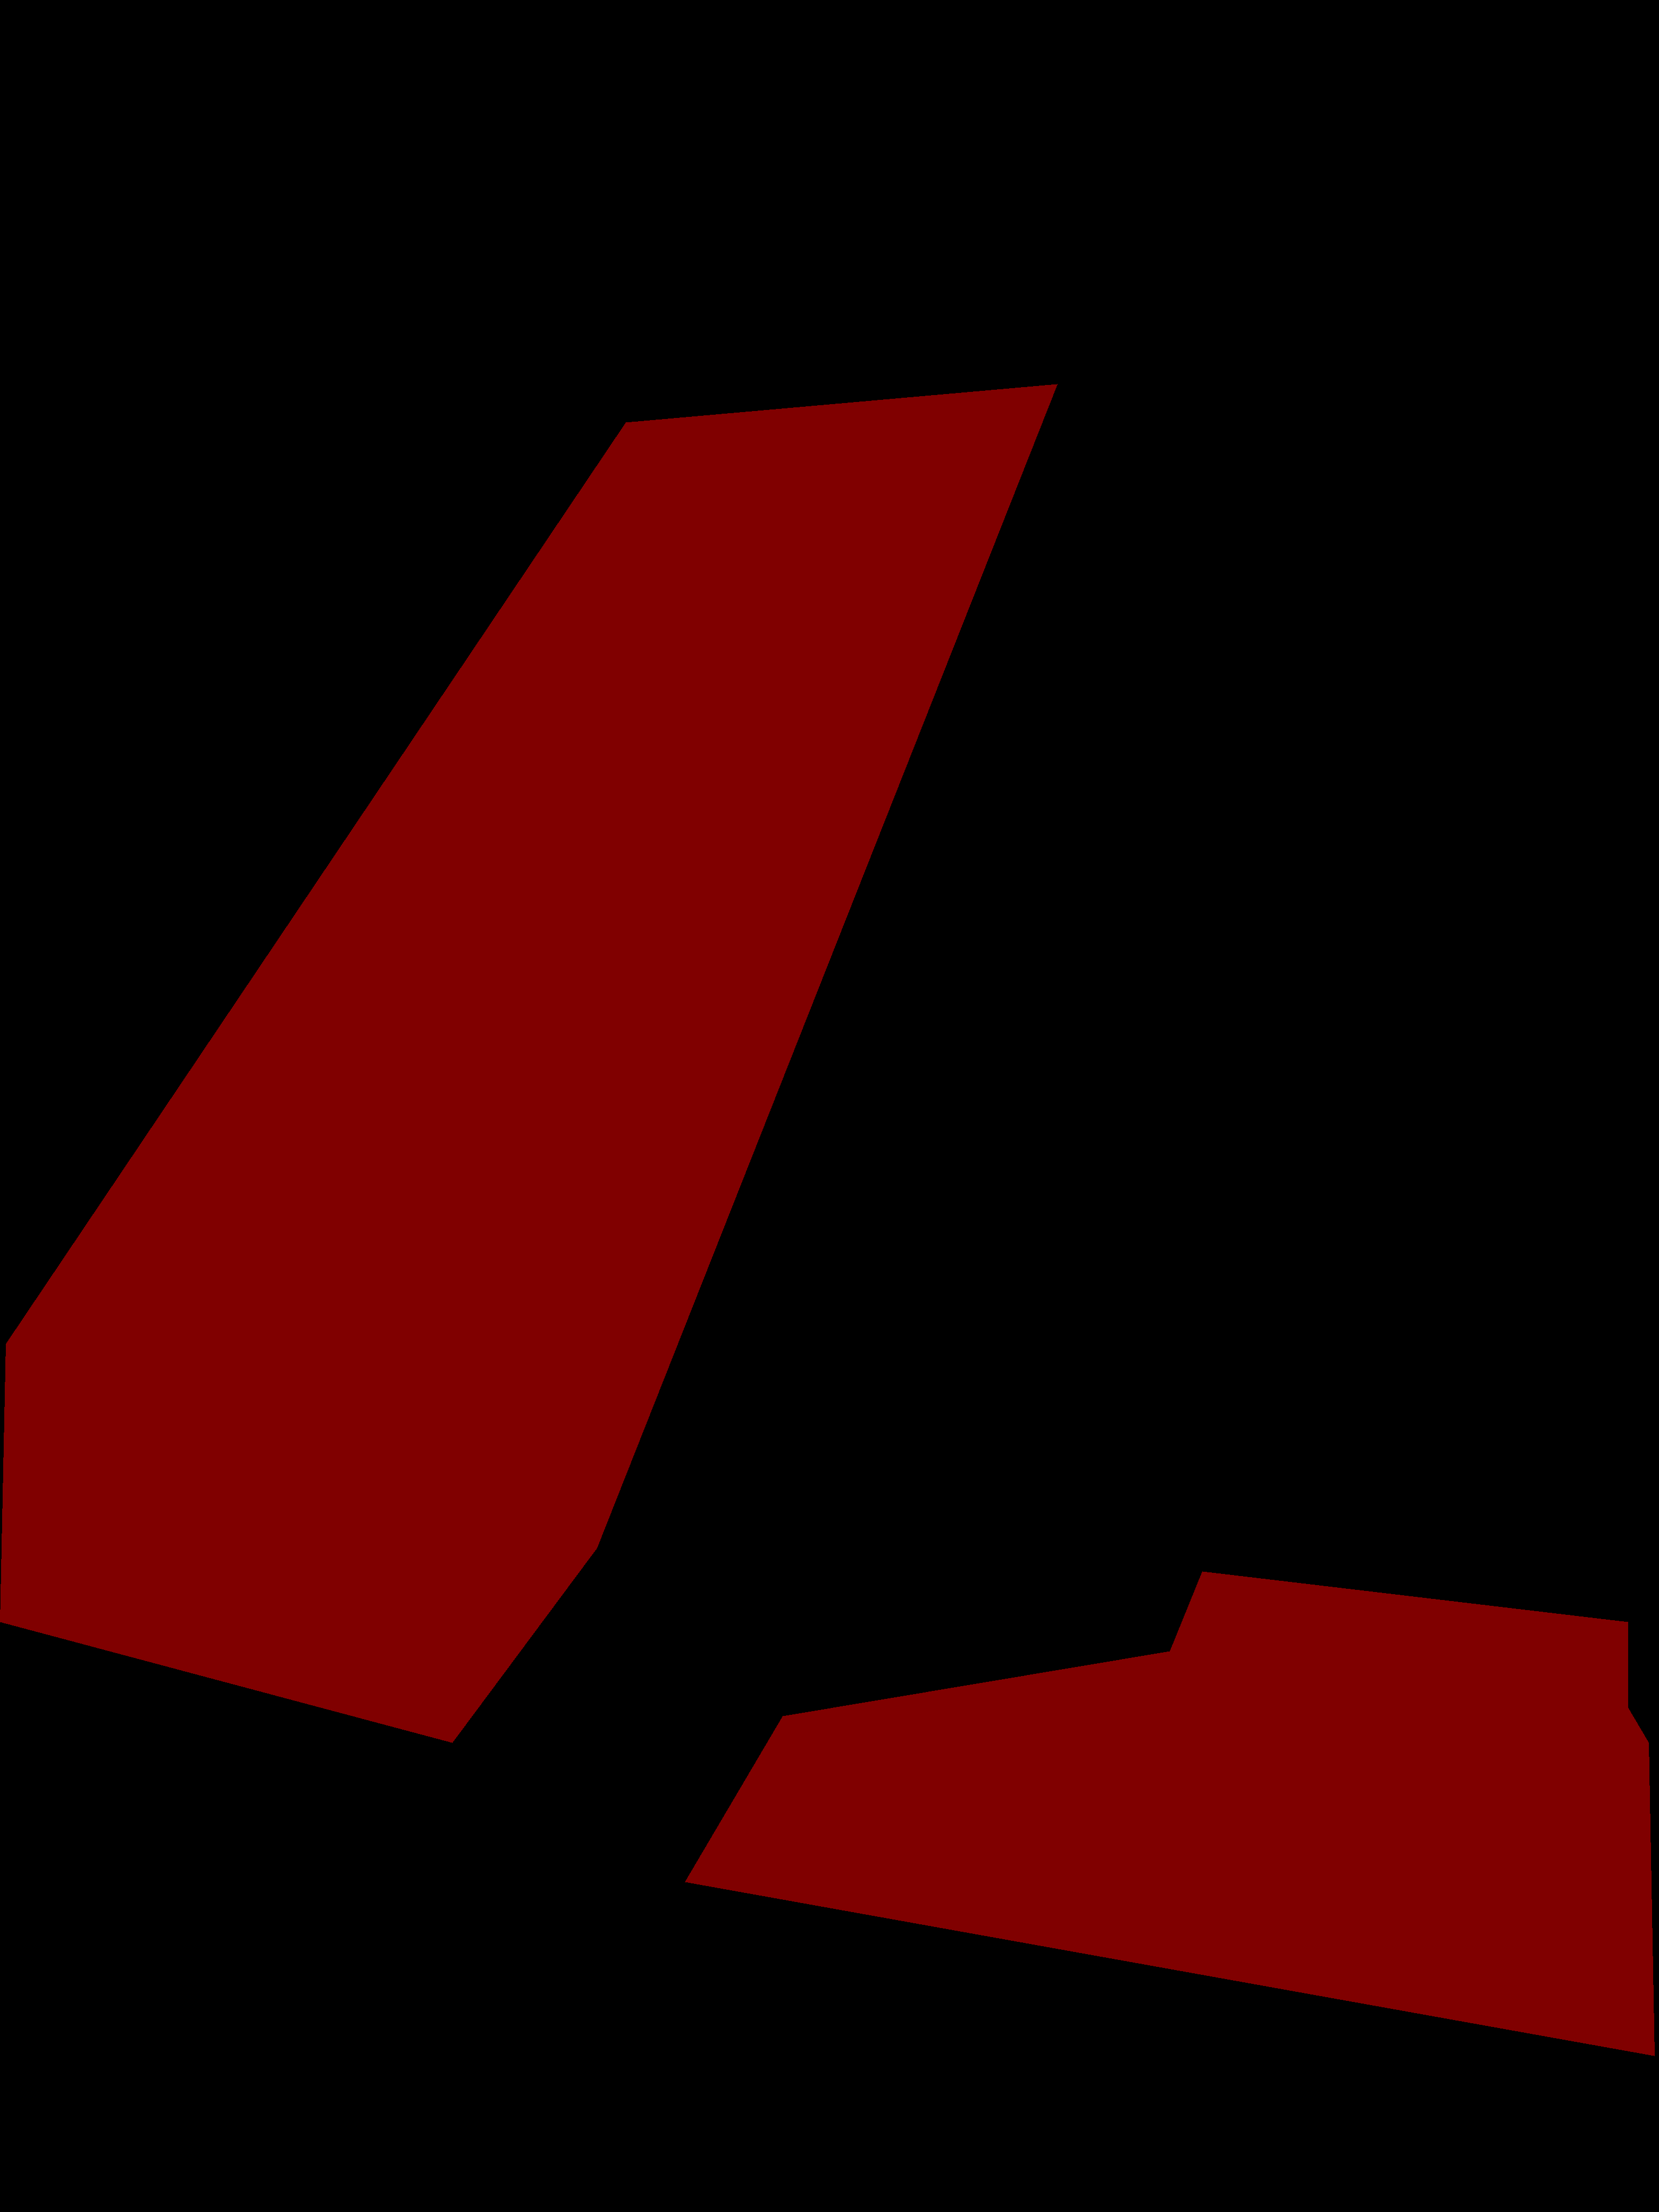stair: (0, 383, 1058, 1742), (685, 1571, 1654, 2055)
